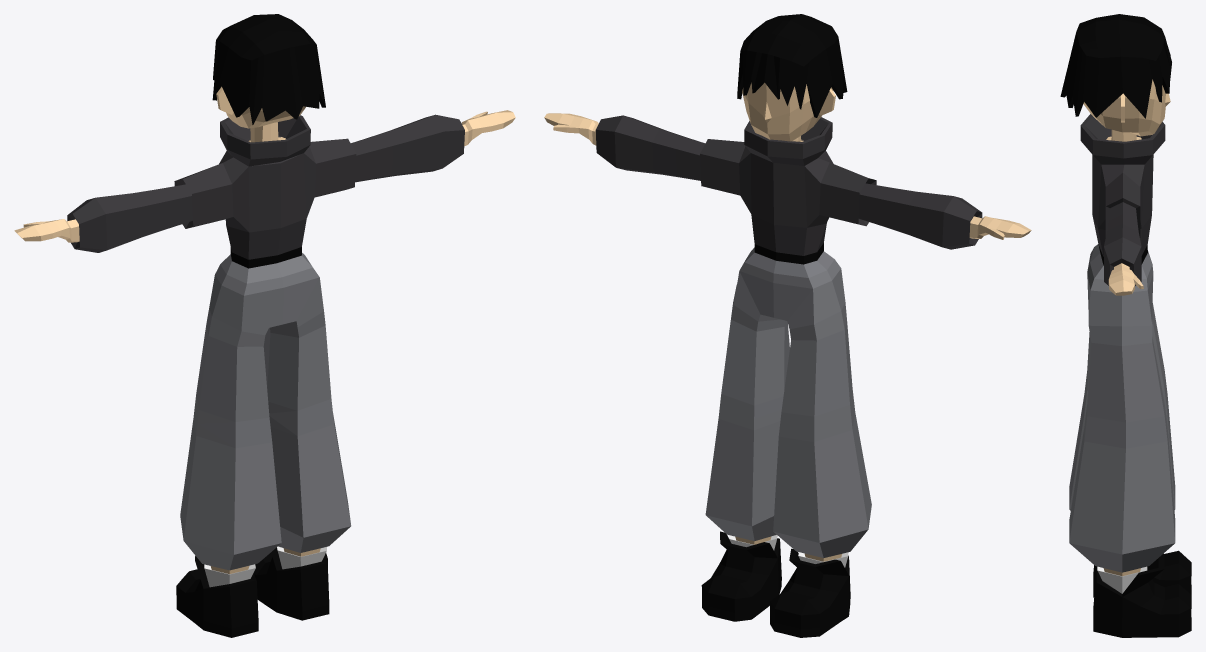
The model's file is PLAYER_MODEL COLORED.fbx.
3 renders of one model, left to right at view 1: azimuth 30°, elevation 25°; view 2: azimuth 150°, elevation 25°; view 3: azimuth 270°, elevation 25°, orthographic. The views are drawn at different scales.
Parts seen in each view (by area): view 1: UPPER BODY, HEAD.001; view 2: UPPER BODY, HEAD.001, HEAD; view 3: UPPER BODY, HEAD.001, HEAD.
Part boxes in pixels (x1=…): UPPER BODY: x1=14, y1=110, x2=515, y2=637; HEAD.001: x1=212, y1=14, x2=325, y2=124; UPPER BODY: x1=544, y1=113, x2=1031, y2=637; HEAD.001: x1=737, y1=14, x2=847, y2=117; HEAD: x1=742, y1=82, x2=833, y2=141; UPPER BODY: x1=1069, y1=114, x2=1191, y2=637; HEAD.001: x1=1060, y1=14, x2=1171, y2=118; HEAD: x1=1083, y1=79, x2=1170, y2=136.
Bounding box in the file's own units: 117 × 134 × 27.08.
Materials: 1 (1 with a texture image).
